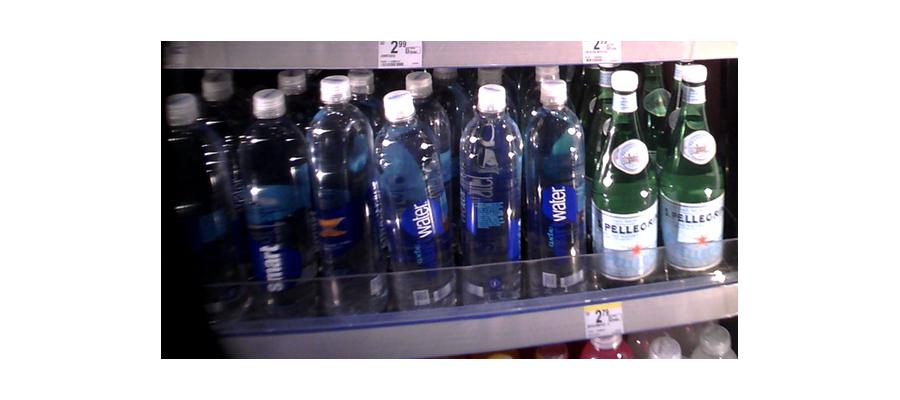bottle: (372, 88, 452, 311), (305, 74, 372, 321), (458, 77, 525, 304), (238, 89, 303, 322), (593, 73, 660, 291), (160, 115, 225, 326), (527, 75, 587, 298), (666, 63, 722, 280)
